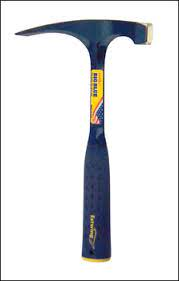hammer: (13, 17, 154, 264)
